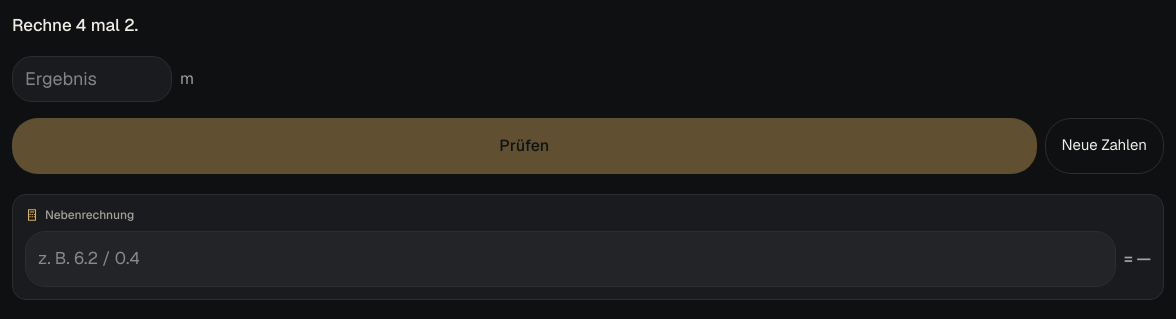
Übungsmodus löst weiterhin auf › CalcCard zeigt Lösungsweg und Erklärung
Type "8" into the field labelled "Ergebnis" at (92, 79), box [12,56,172,102]
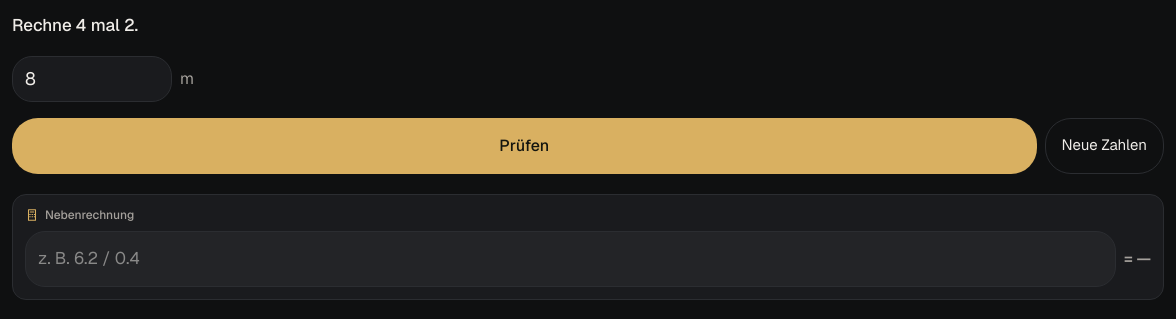
Click the button "Prüfen" at (524, 146), box [12,118,1036,174]
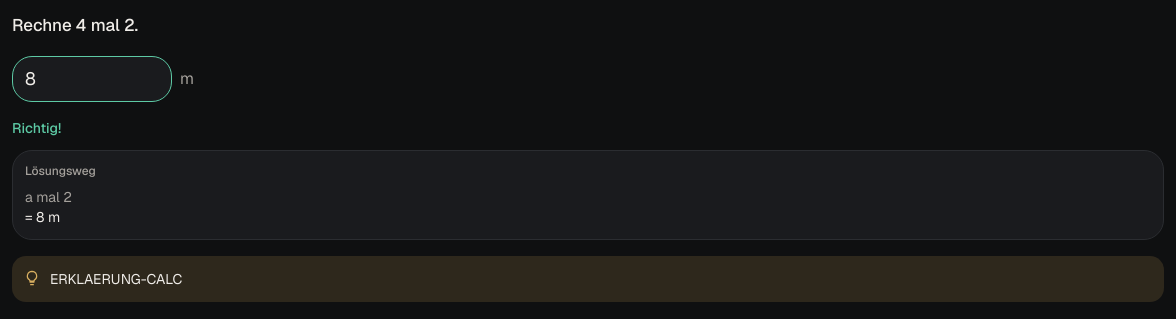
Expected: the text "Lösungsweg" is shown, [25,163,96,179]
Expected: the text "ERKLAERUNG-CALC" is shown, [50,268,182,290]
